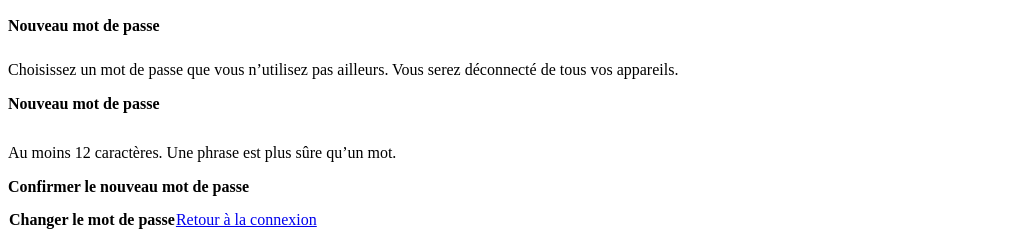
Scenario: ResetPasswordPage › says one thing for a link that opens nothing, and offers to ask for another
Type "une-nouvelle-phrase-de-passe" into the password field labelled "Nouveau mot de passe" at (512, 121), box [8,113,1016,128]
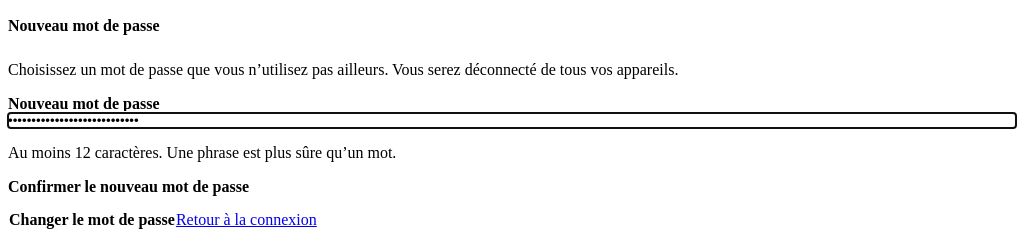
Type "une-nouvelle-phrase-de-passe" into the password field labelled "Confirmer le nouveau mot de passe" at (512, 204), box [8,196,1016,211]
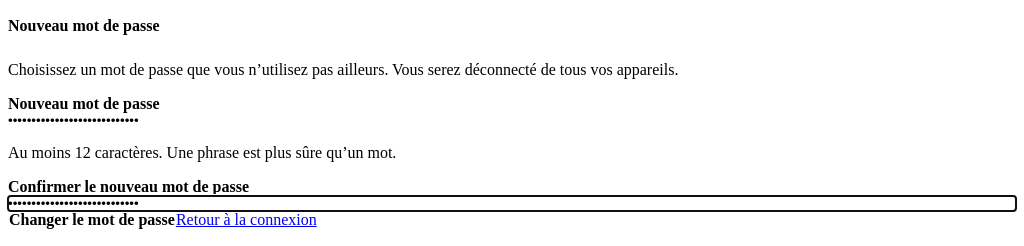
Click the button "Changer le mot de passe" at (92, 220), box [8,211,176,229]
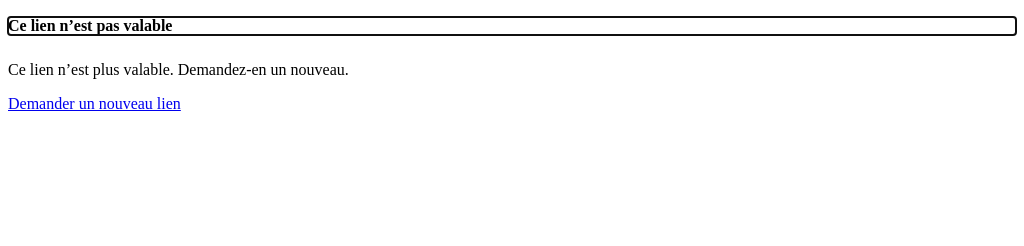
Result: the text "Ce lien n’est plus valable. Demandez-en un nouveau." is shown at [8,61,349,78]
Result: the heading labelled "Nouveau mot de passe" is gone
